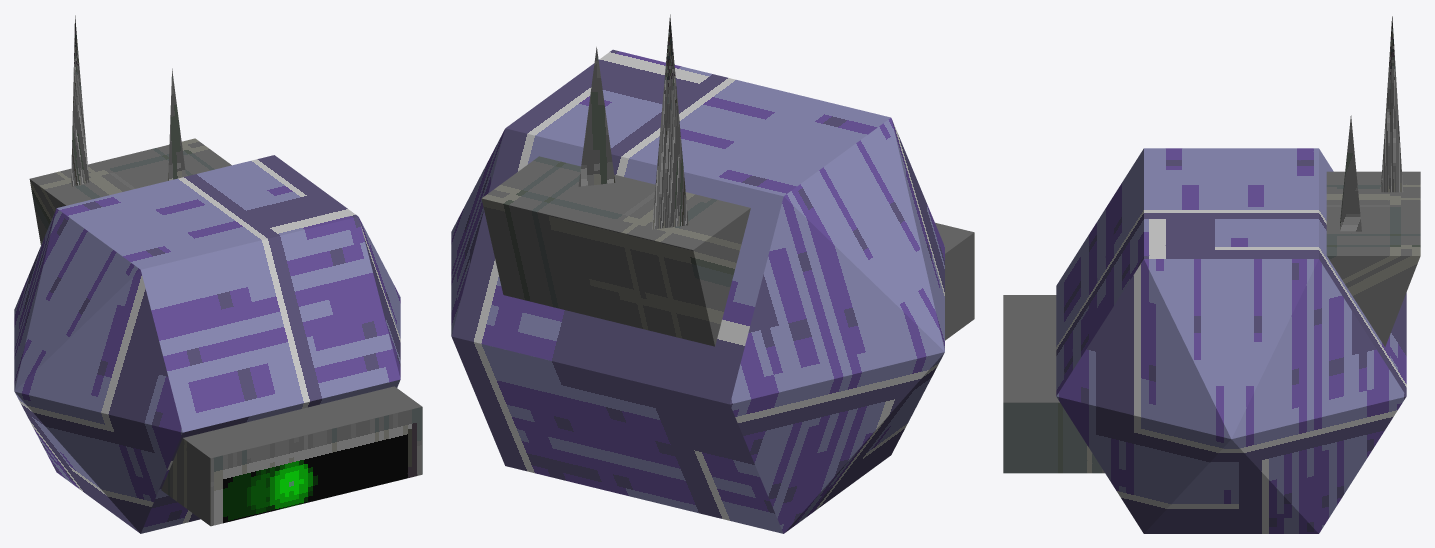
The model's file is model_014_robot_guide_bot.glb.
The picture shows the model from 3 angles, left to right: view 1: azimuth 30°, elevation 25°; view 2: azimuth 150°, elevation 25°; view 3: azimuth 270°, elevation 25°; orthographic projection. The views are drawn at different scales.
Visible parts, largest first — view 1: model_014; view 2: model_014; view 3: model_014.
Part boxes in pixels (x1,y1,x2,y2): model_014: [14, 15, 422, 533]; model_014: [451, 14, 974, 533]; model_014: [1003, 16, 1420, 533].
Size of the model in its own units: 6.74 by 7 by 6.07.
4 materials, 4 textured.
